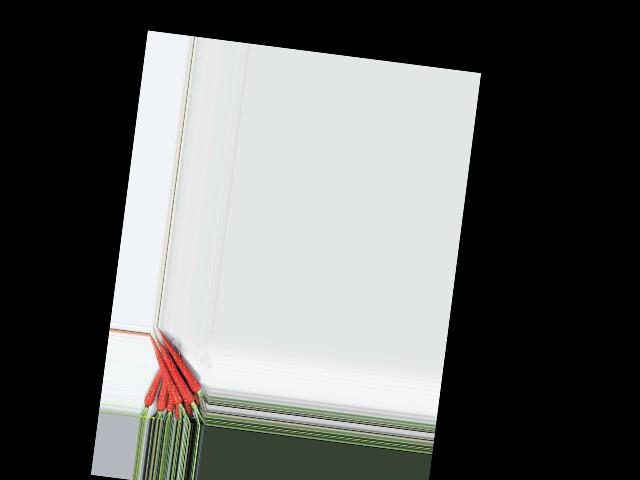carrot: (141, 366, 165, 408)
